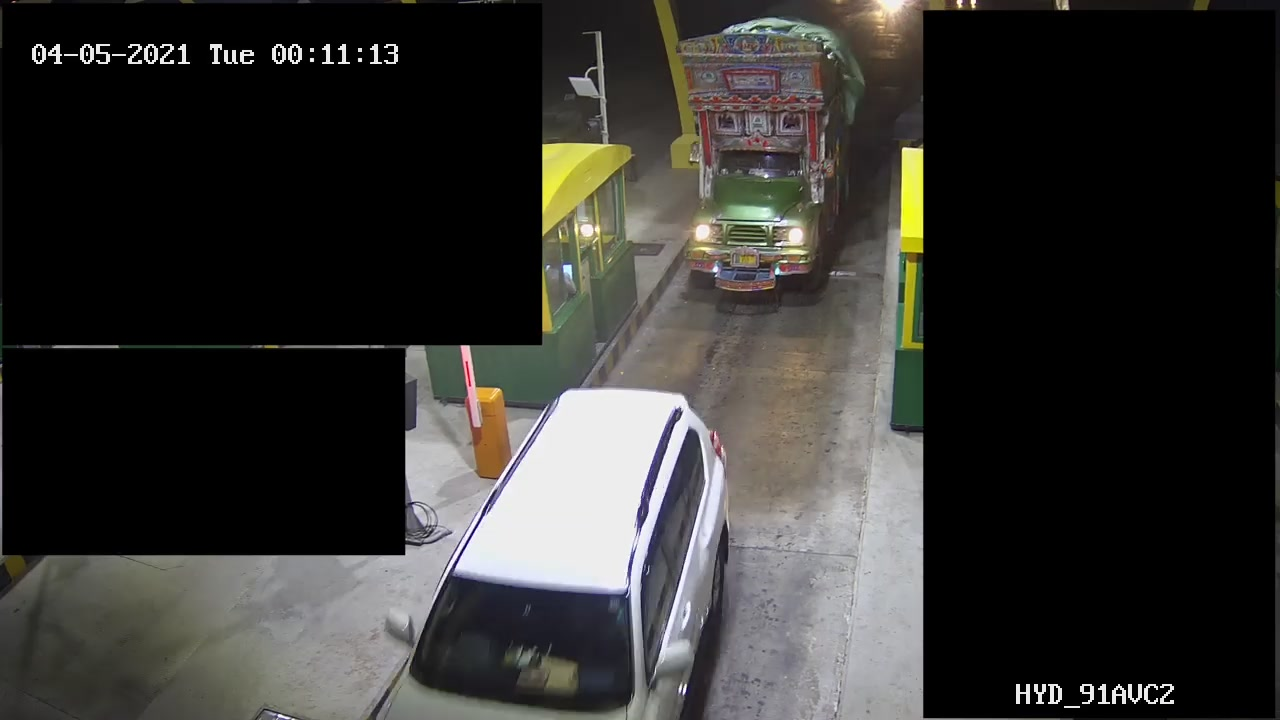F5: (667, 20, 872, 299)
